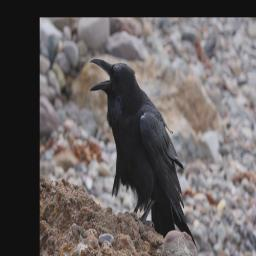Crow: (90, 59, 198, 248)
